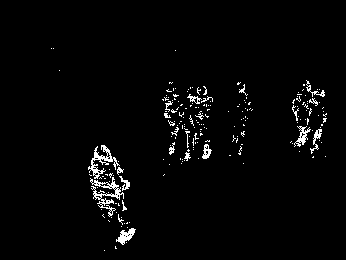person: (87, 142, 137, 252), (189, 83, 217, 161), (226, 79, 253, 157), (286, 80, 315, 148), (177, 86, 201, 163), (160, 79, 182, 156), (303, 87, 327, 156)
